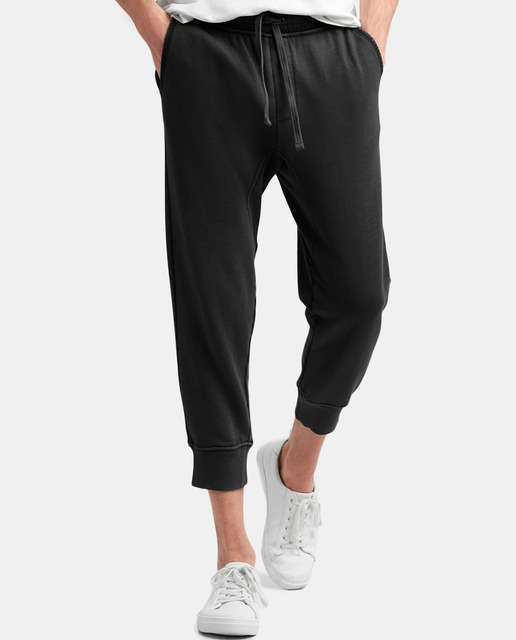feet: (174, 396, 331, 640)
